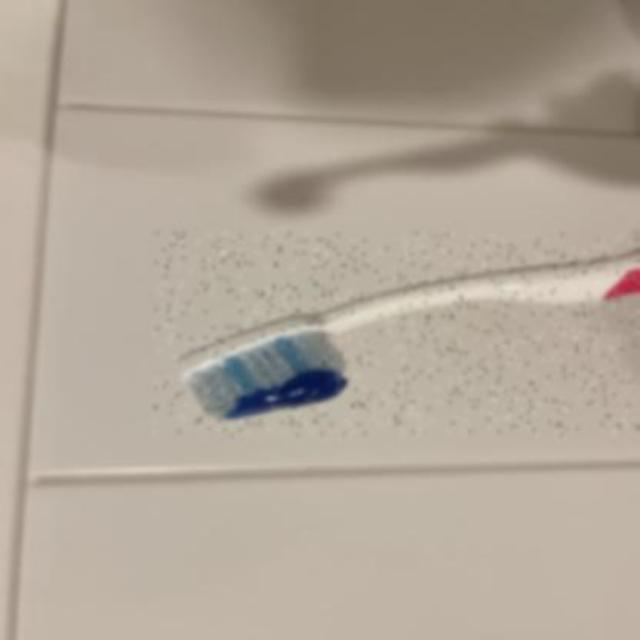toothbrush: (154, 232, 640, 436)
